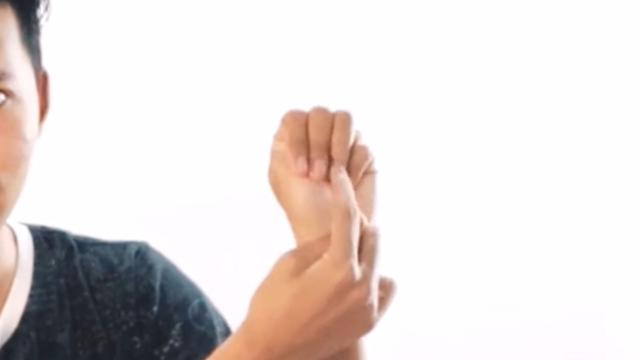M: (264, 101, 388, 241)
